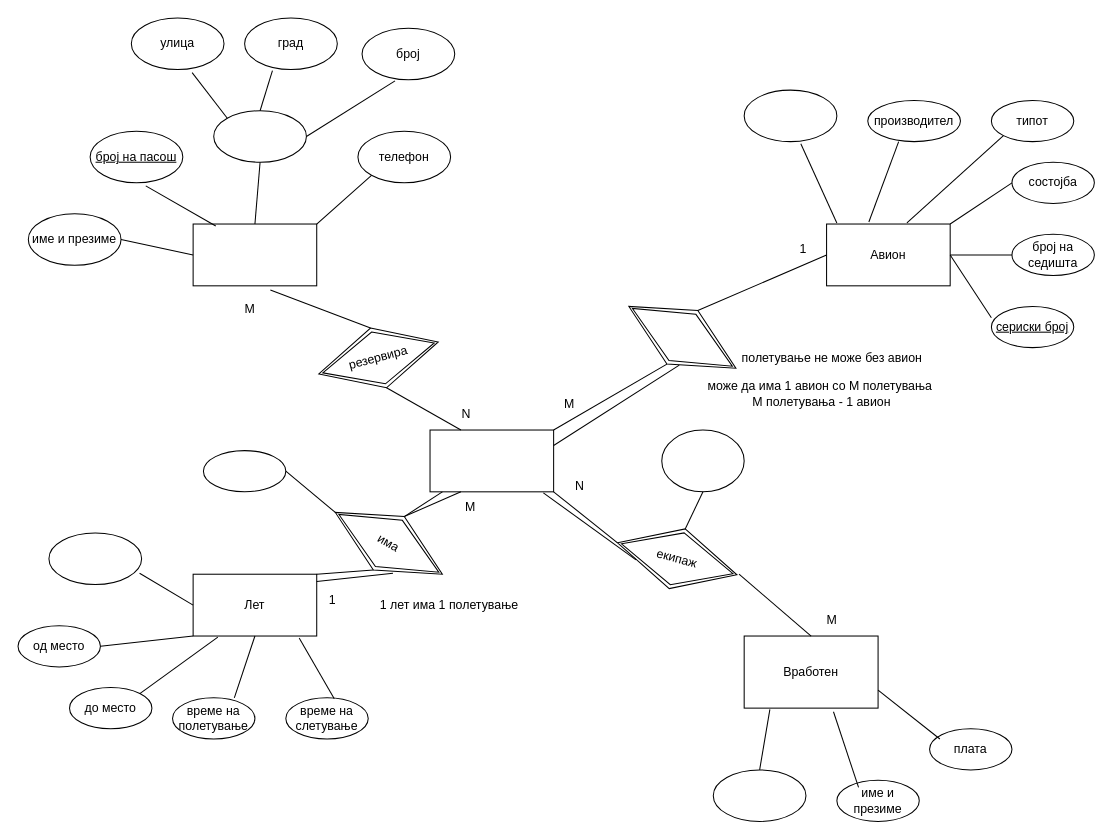
This 1112x839 diagram has some shape labels left out. Each missing label, with the box of its shape:
адреса: (213, 110, 306, 162)
број и име на модел: (743, 89, 837, 142)
бројот на лет: (48, 532, 142, 585)
датум на полетување: (202, 450, 286, 492)
Патник: (192, 223, 317, 286)
Полетување: (429, 429, 554, 492)
се користи: (612, 278, 752, 395)
улога: (661, 429, 744, 492)
шифра: (712, 769, 806, 821)
